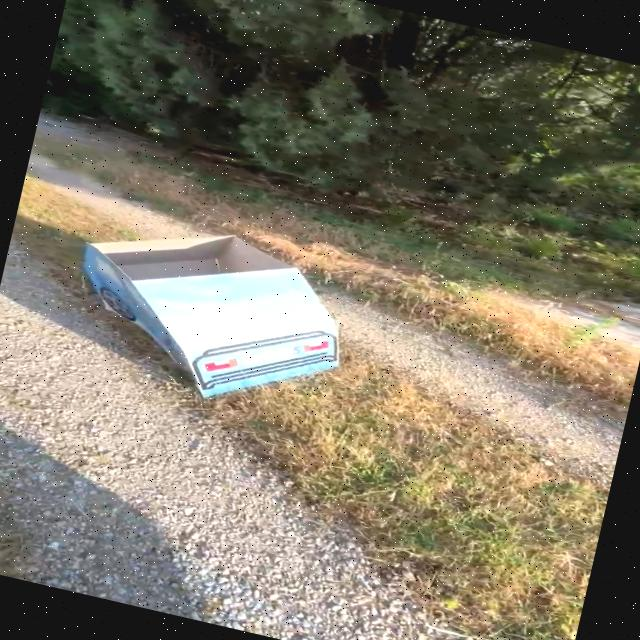blue_car: (42, 190, 424, 459)
